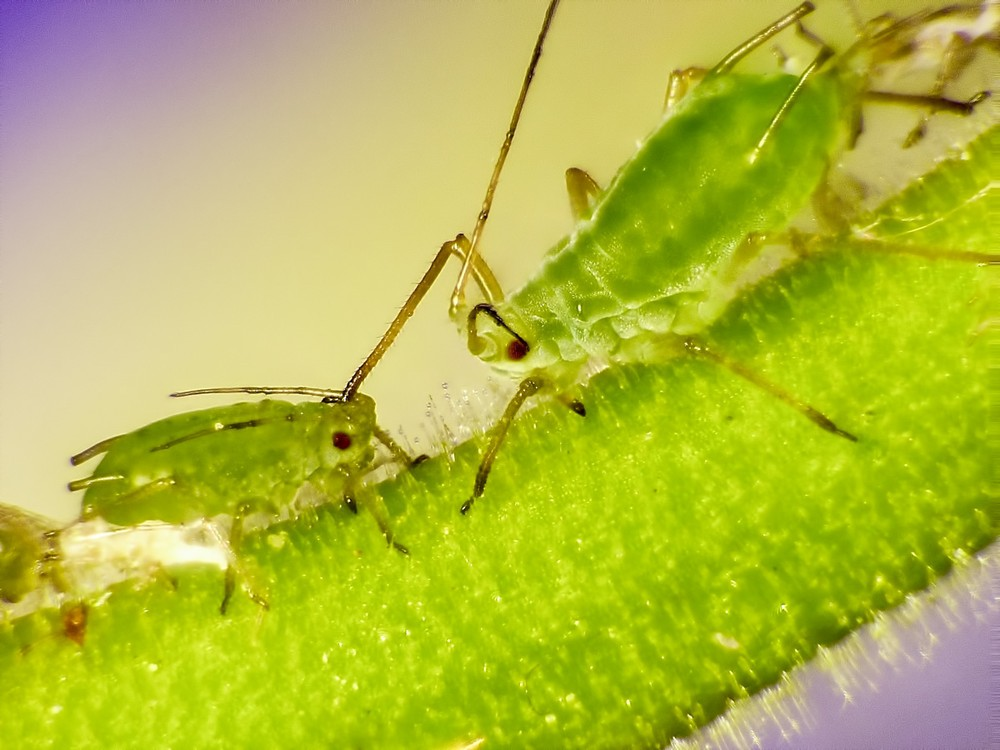Pulgon: (425, 17, 971, 460), (55, 366, 450, 578)
